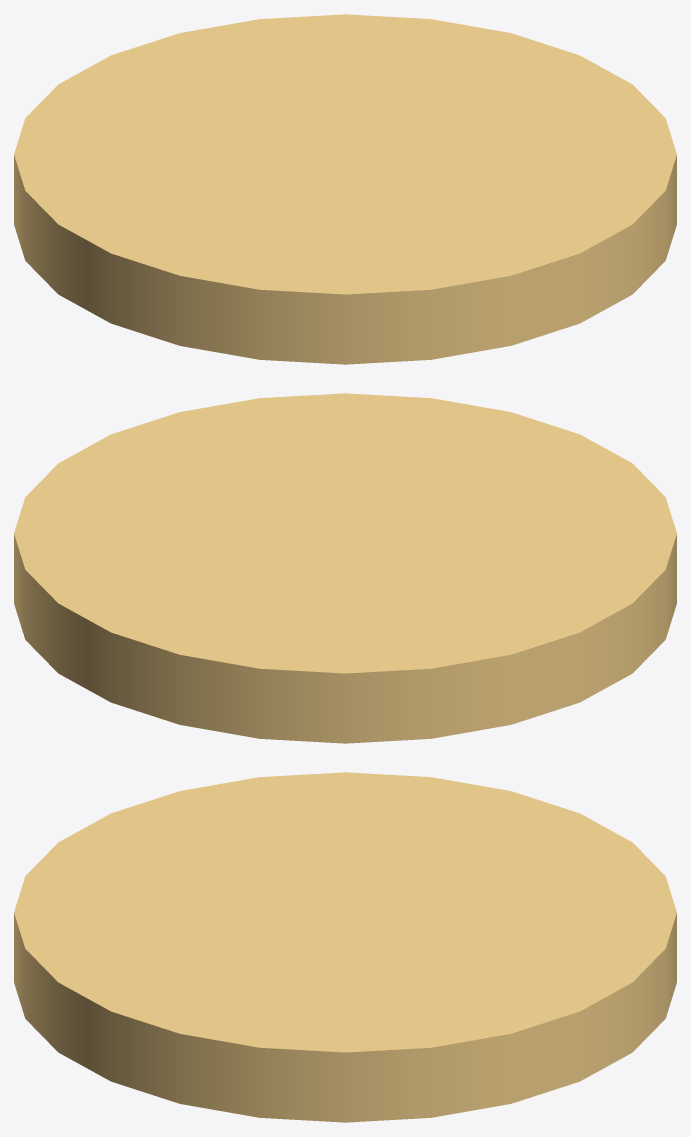
File: SM_PIMLRCoin_Lo.fbx
The picture shows the model from 3 angles, top to bottom: view 1: azimuth 30°, elevation 25°; view 2: azimuth 150°, elevation 25°; view 3: azimuth 270°, elevation 25°; orthographic projection.
Parts seen in each view (by area): view 1: SM_PIMLRCoin_Lo; view 2: SM_PIMLRCoin_Lo; view 3: SM_PIMLRCoin_Lo.
Part boxes in pixels (x1=…): SM_PIMLRCoin_Lo: x1=14, y1=14, x2=676, y2=364; SM_PIMLRCoin_Lo: x1=14, y1=393, x2=676, y2=743; SM_PIMLRCoin_Lo: x1=14, y1=772, x2=676, y2=1122.
Bounding box in the file's own units: 0.3 × 0.035 × 0.3.
